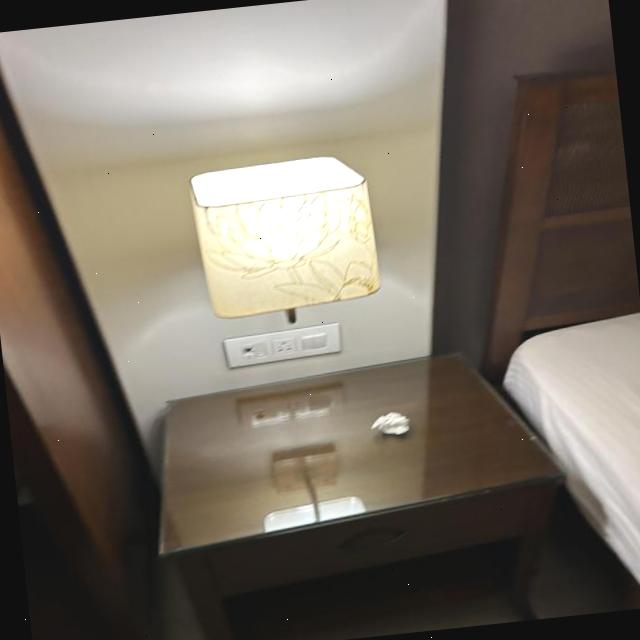lamp: (188, 147, 388, 331)
mess: (361, 408, 417, 442)
messy_table: (152, 352, 568, 640)
